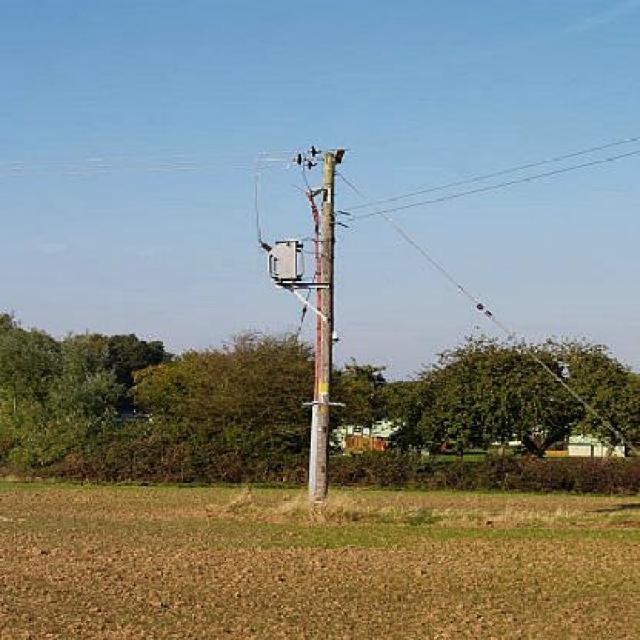pole: (305, 149, 345, 506)
transformer: (258, 240, 308, 292)
wire: (334, 135, 640, 215), (334, 148, 640, 224)
